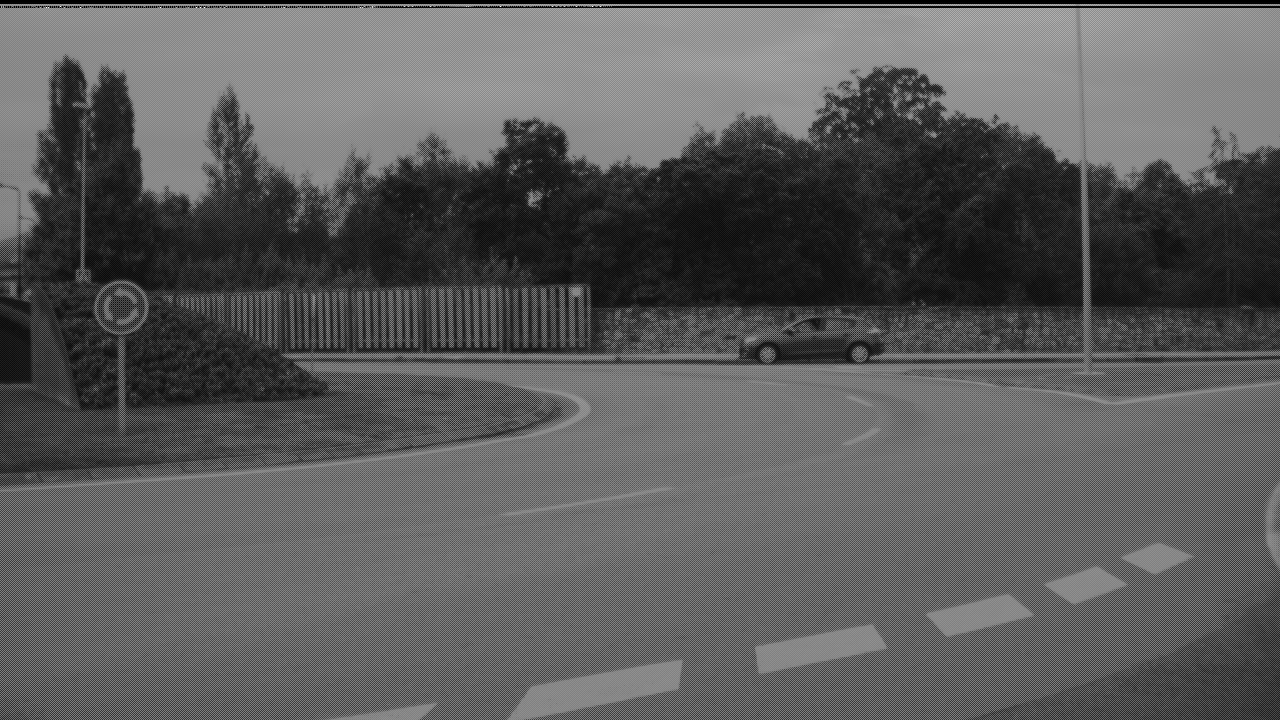pole: (1074, 1, 1091, 366), (77, 102, 87, 282)
